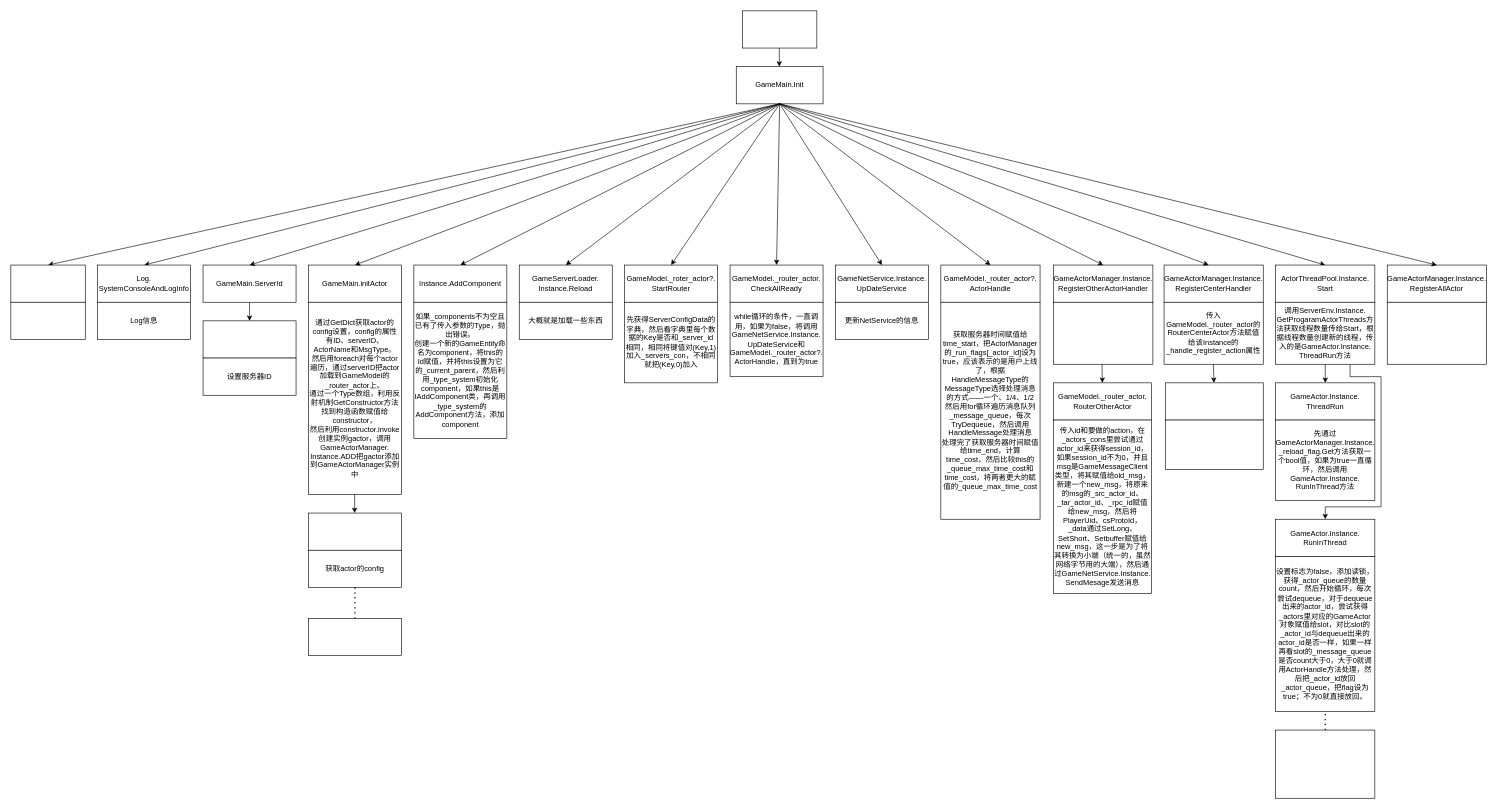
Image size: 1497x809. Some labels were removed from this diagram. The centre of each missing label's shape, as x and y in pixels:
"ActorConfigData.Instance. GetDict" goes at point (354, 531).
"GameModel. AddSingletion" goes at point (47, 283).
"GameModel._router_actor. RouterCenterActor" goes at point (1214, 401).
"GameModel.ServerId" goes at point (249, 339).
"GameSever.Main" goes at point (779, 29).
"Q：actor是用户吗" goes at point (354, 637).
"传入GameModel._router_actor的RouterOtherActor方法赋值给该Instance的 _handle_action属性" goes at point (1103, 333).
"传入msg，把_center_actor_id赋值给msg的_tar_actor_id" goes at point (1214, 444).
"添加单例" goes at point (47, 320).
"添加读锁，对于每个_actors里的GameActor对象，调用RegisterActor方法，进行注册。全部注册完后，释放读锁" goes at point (1436, 333).
"这里新创建的thread传的ThreadRun，里面GameActorManager.Instance ._reload_flag.Get()做的啥" goes at point (1325, 763).
